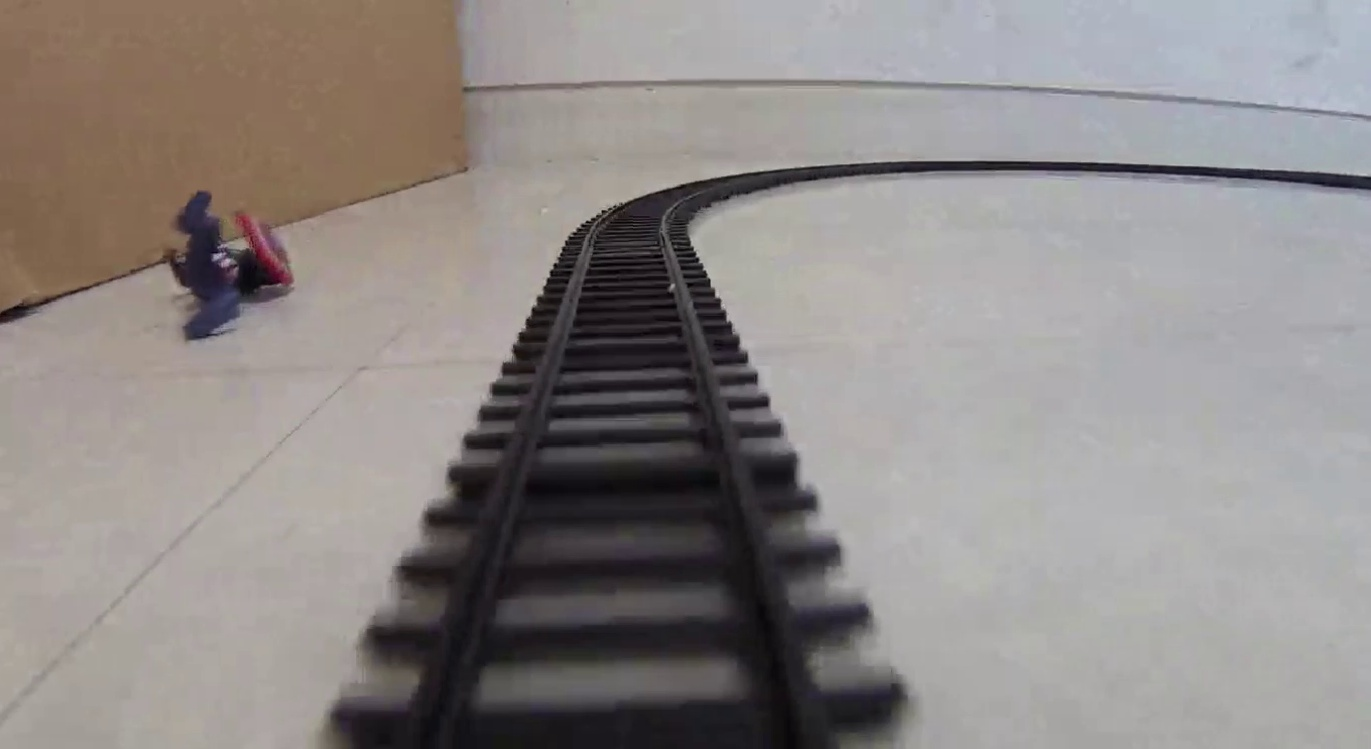people: (161, 189, 294, 340)
